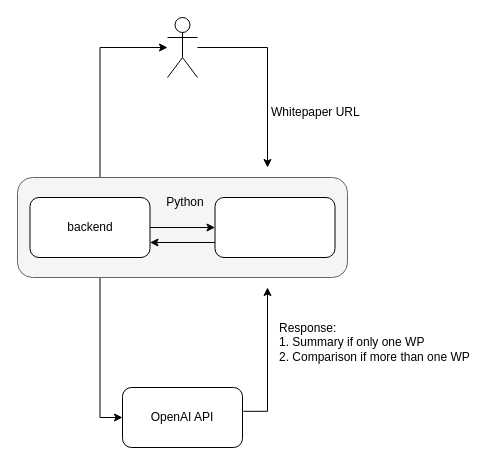
Some shapes in this 495 by 465 pixel diagram are drawn without their labels. Each missing label, with the centre of its shape:
"frontend (Gradio GUI)" belongs at (274,227).
"User" belongs at (182,47).
